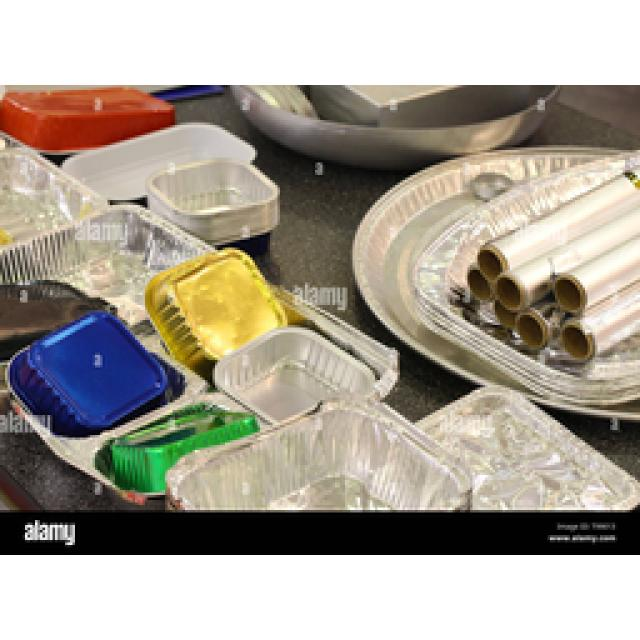alumunium: (0, 135, 470, 510), (352, 148, 608, 388), (148, 158, 278, 245)
